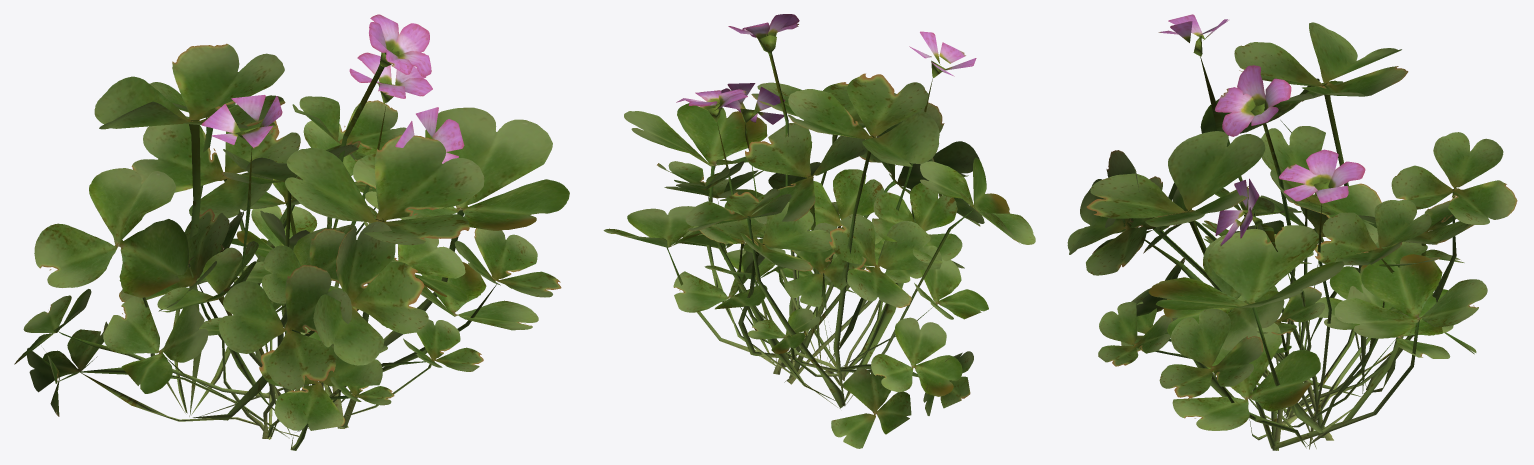
The model's file is oseille.glb.
3 views of the same model, side by side, from view 1: azimuth 30°, elevation 25°; view 2: azimuth 150°, elevation 25°; view 3: azimuth 270°, elevation 25° (orthographic). The views are drawn at different scales.
Visible parts, largest first — view 1: shrub_sorrel_01_b, shrub_sorrel_01_a, shrub_sorrel_01_d, shrub_sorrel_01_e, shrub_sorrel_01_c, shrub_sorrel_01_f; view 2: shrub_sorrel_01_d, shrub_sorrel_01_b, shrub_sorrel_01_e, shrub_sorrel_01_a, shrub_sorrel_01_c, shrub_sorrel_01_f; view 3: shrub_sorrel_01_b, shrub_sorrel_01_e, shrub_sorrel_01_d, shrub_sorrel_01_a, shrub_sorrel_01_c, shrub_sorrel_01_f.
Boxes of the visible parts, bbox=[...] form: shrub_sorrel_01_b: bbox=[34, 43, 569, 420]; shrub_sorrel_01_a: bbox=[131, 14, 484, 428]; shrub_sorrel_01_d: bbox=[26, 95, 538, 450]; shrub_sorrel_01_e: bbox=[14, 52, 561, 402]; shrub_sorrel_01_c: bbox=[157, 149, 467, 395]; shrub_sorrel_01_f: bbox=[196, 206, 398, 439]; shrub_sorrel_01_d: bbox=[673, 31, 988, 448]; shrub_sorrel_01_b: bbox=[624, 73, 1035, 408]; shrub_sorrel_01_e: bbox=[603, 89, 962, 396]; shrub_sorrel_01_a: bbox=[708, 14, 984, 360]; shrub_sorrel_01_c: bbox=[699, 136, 962, 384]; shrub_sorrel_01_f: bbox=[704, 232, 922, 380]; shrub_sorrel_01_b: bbox=[1067, 22, 1517, 432]; shrub_sorrel_01_e: bbox=[1098, 149, 1487, 449]; shrub_sorrel_01_d: bbox=[1131, 14, 1476, 440]; shrub_sorrel_01_a: bbox=[1086, 65, 1473, 450]; shrub_sorrel_01_c: bbox=[1143, 188, 1440, 440]; shrub_sorrel_01_f: bbox=[1121, 236, 1453, 417].
Bounding box in the file's own units: 0.0726 × 0.0563 × 0.059.
Materials: 1 (1 with a texture image).
